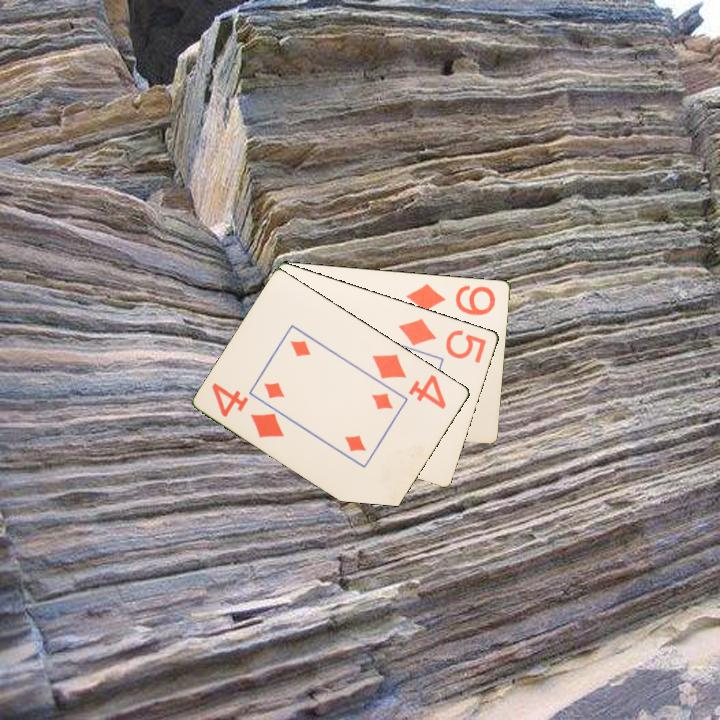4d: (369, 350, 450, 412), (208, 379, 288, 441)
5d: (395, 314, 490, 366)
9d: (403, 280, 499, 318)
